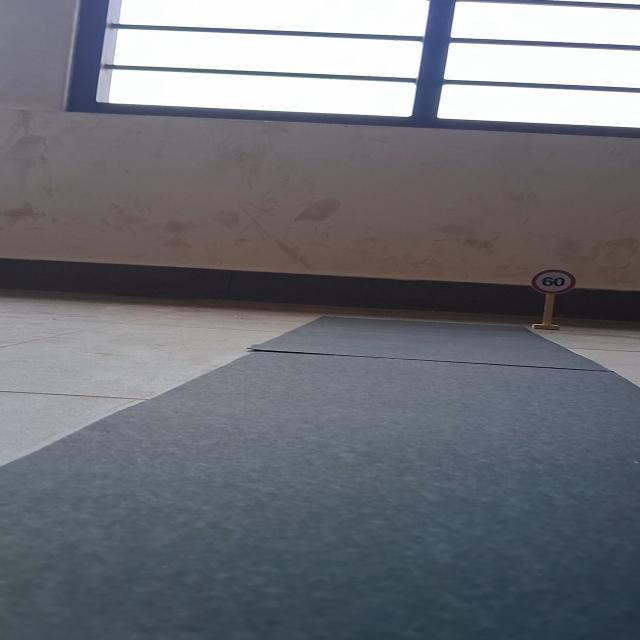Speed60: (532, 269, 577, 296)
